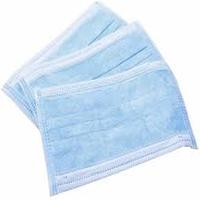flu mask: (34, 82, 198, 194)
